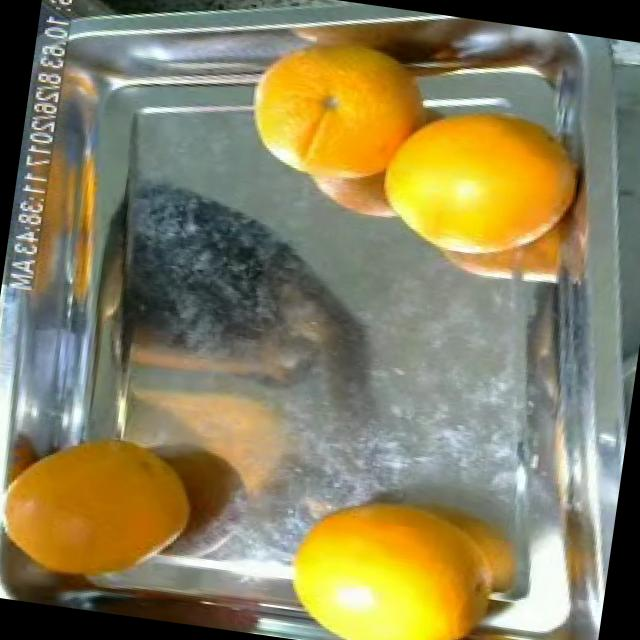Fruit: (258, 462, 504, 640), (0, 403, 221, 601)
